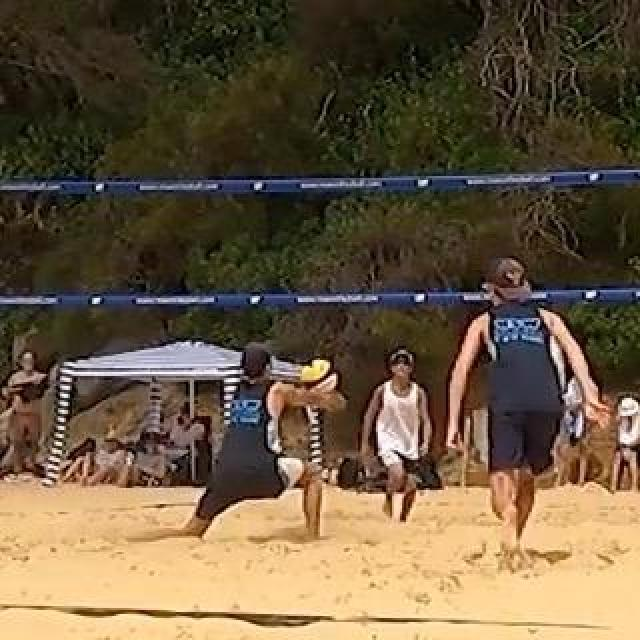volleyball: (301, 357, 333, 387)
